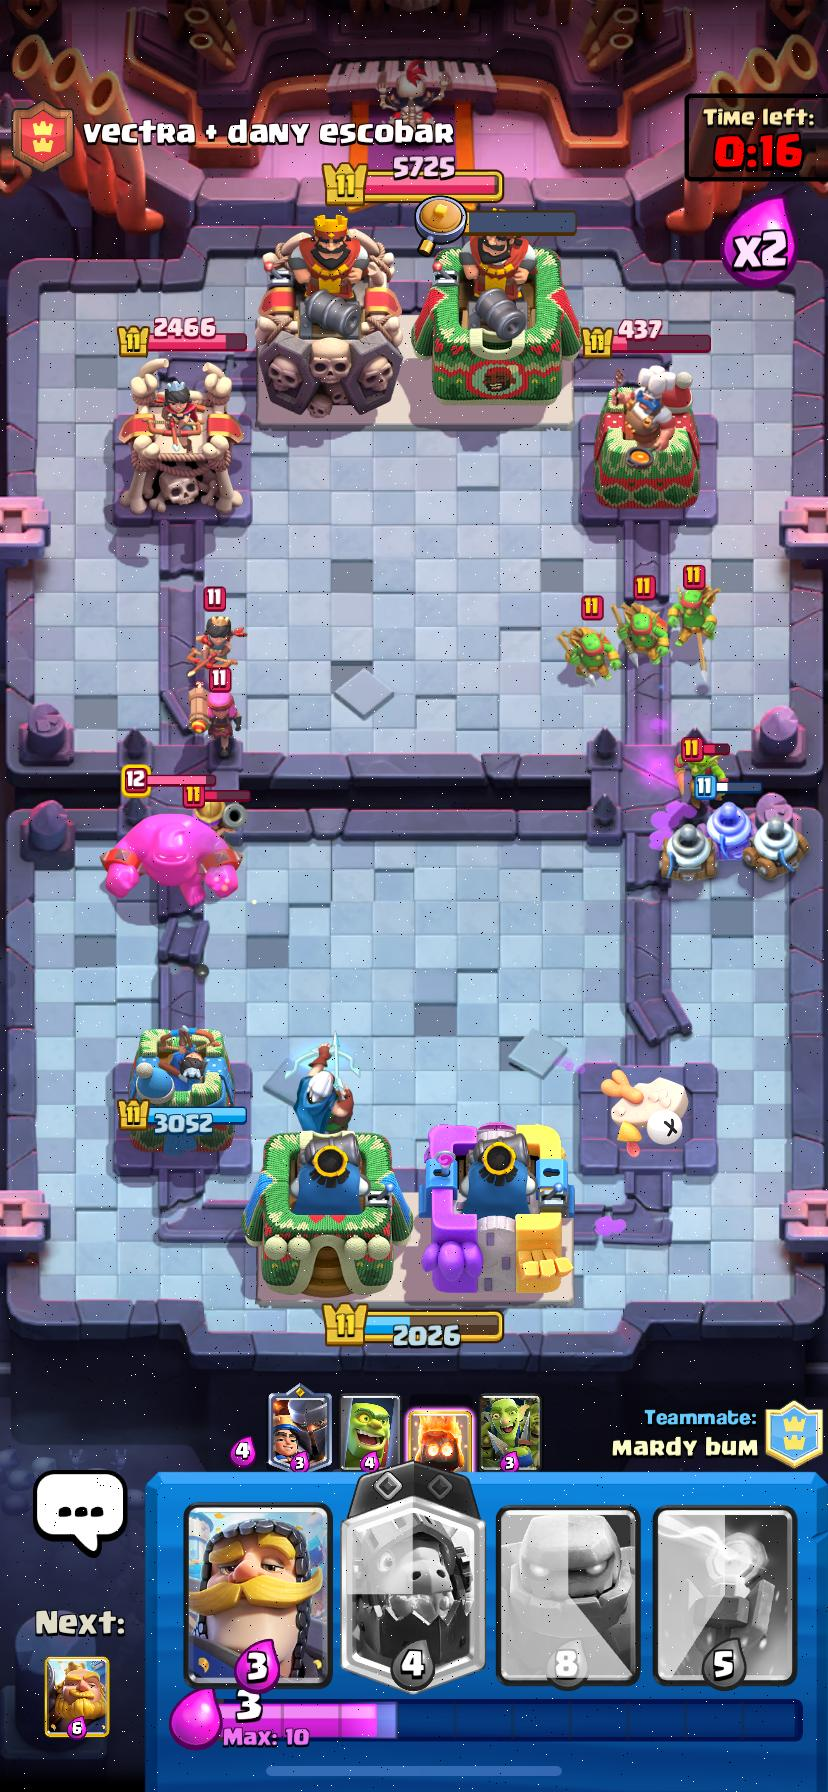EElixerGolem: (101, 811, 241, 907)
EFirecrack: (188, 685, 240, 755)
EGoblin: (675, 754, 729, 810)
EKingTower: (255, 215, 403, 417), (412, 233, 580, 403)
EMusk: (196, 800, 244, 830)
EPrincess: (188, 613, 233, 670)
ESpearGoblin: (668, 581, 719, 667), (613, 600, 668, 663), (558, 626, 619, 682)
EnemyPanTower: (594, 365, 699, 511)
EnemyPrincessTower: (118, 359, 242, 515)
OMagicArcher: (266, 1037, 358, 1134)
OZappy: (745, 816, 809, 880), (660, 821, 716, 878), (706, 802, 753, 859)
OwnKingTower: (242, 1131, 413, 1294), (421, 1123, 573, 1301)
OwnPrincessTower: (117, 1026, 245, 1154)
TowerDown: (579, 1062, 717, 1175)
